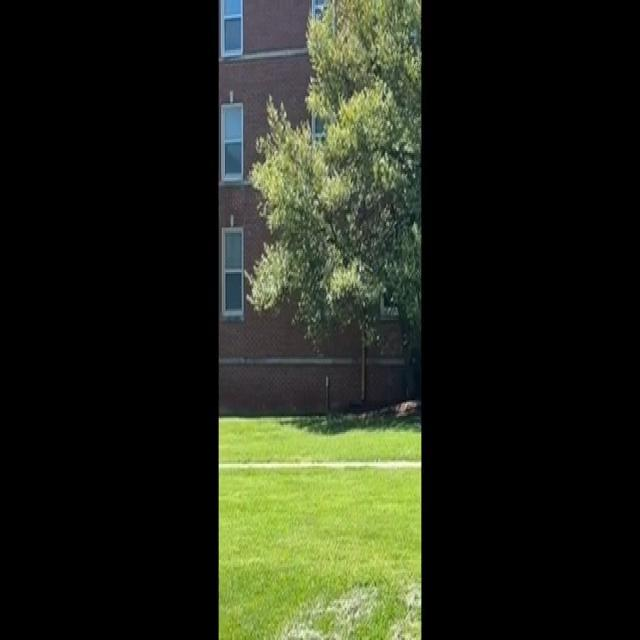drone: (311, 346, 335, 368)
